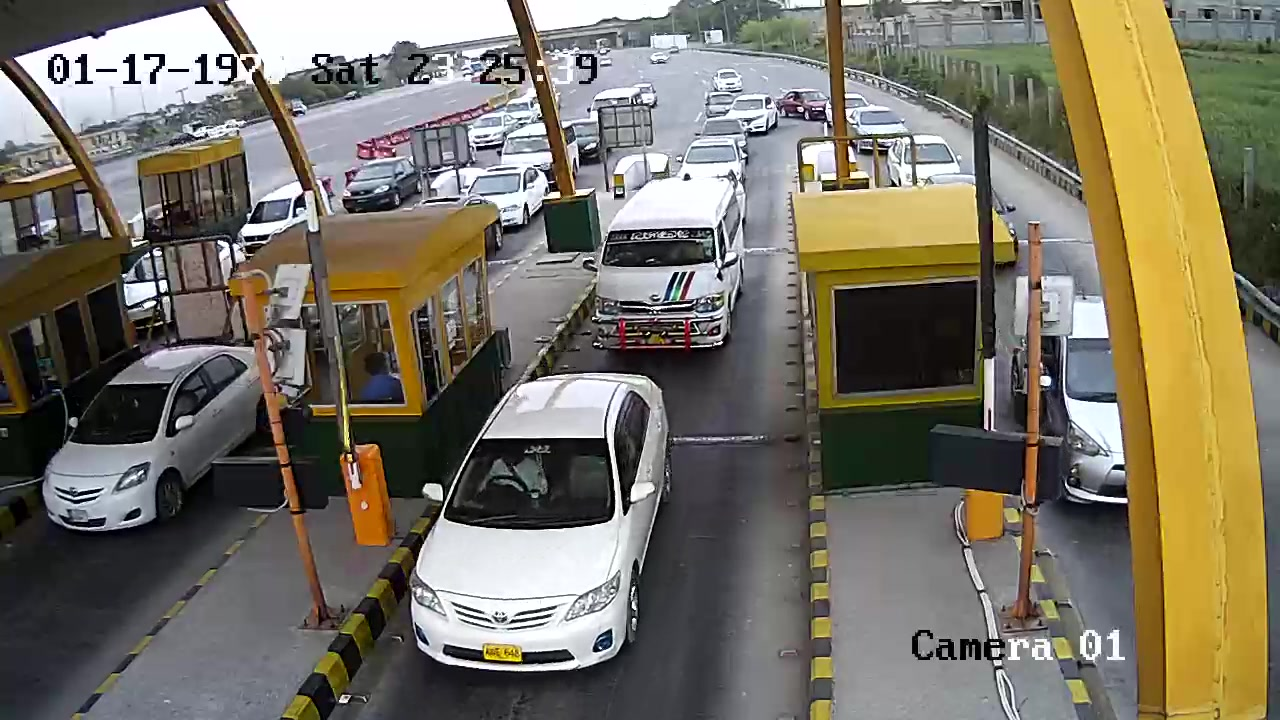F1: (401, 366, 693, 668)
F2: (587, 167, 753, 362)
